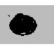correct: (8, 10, 38, 38)
